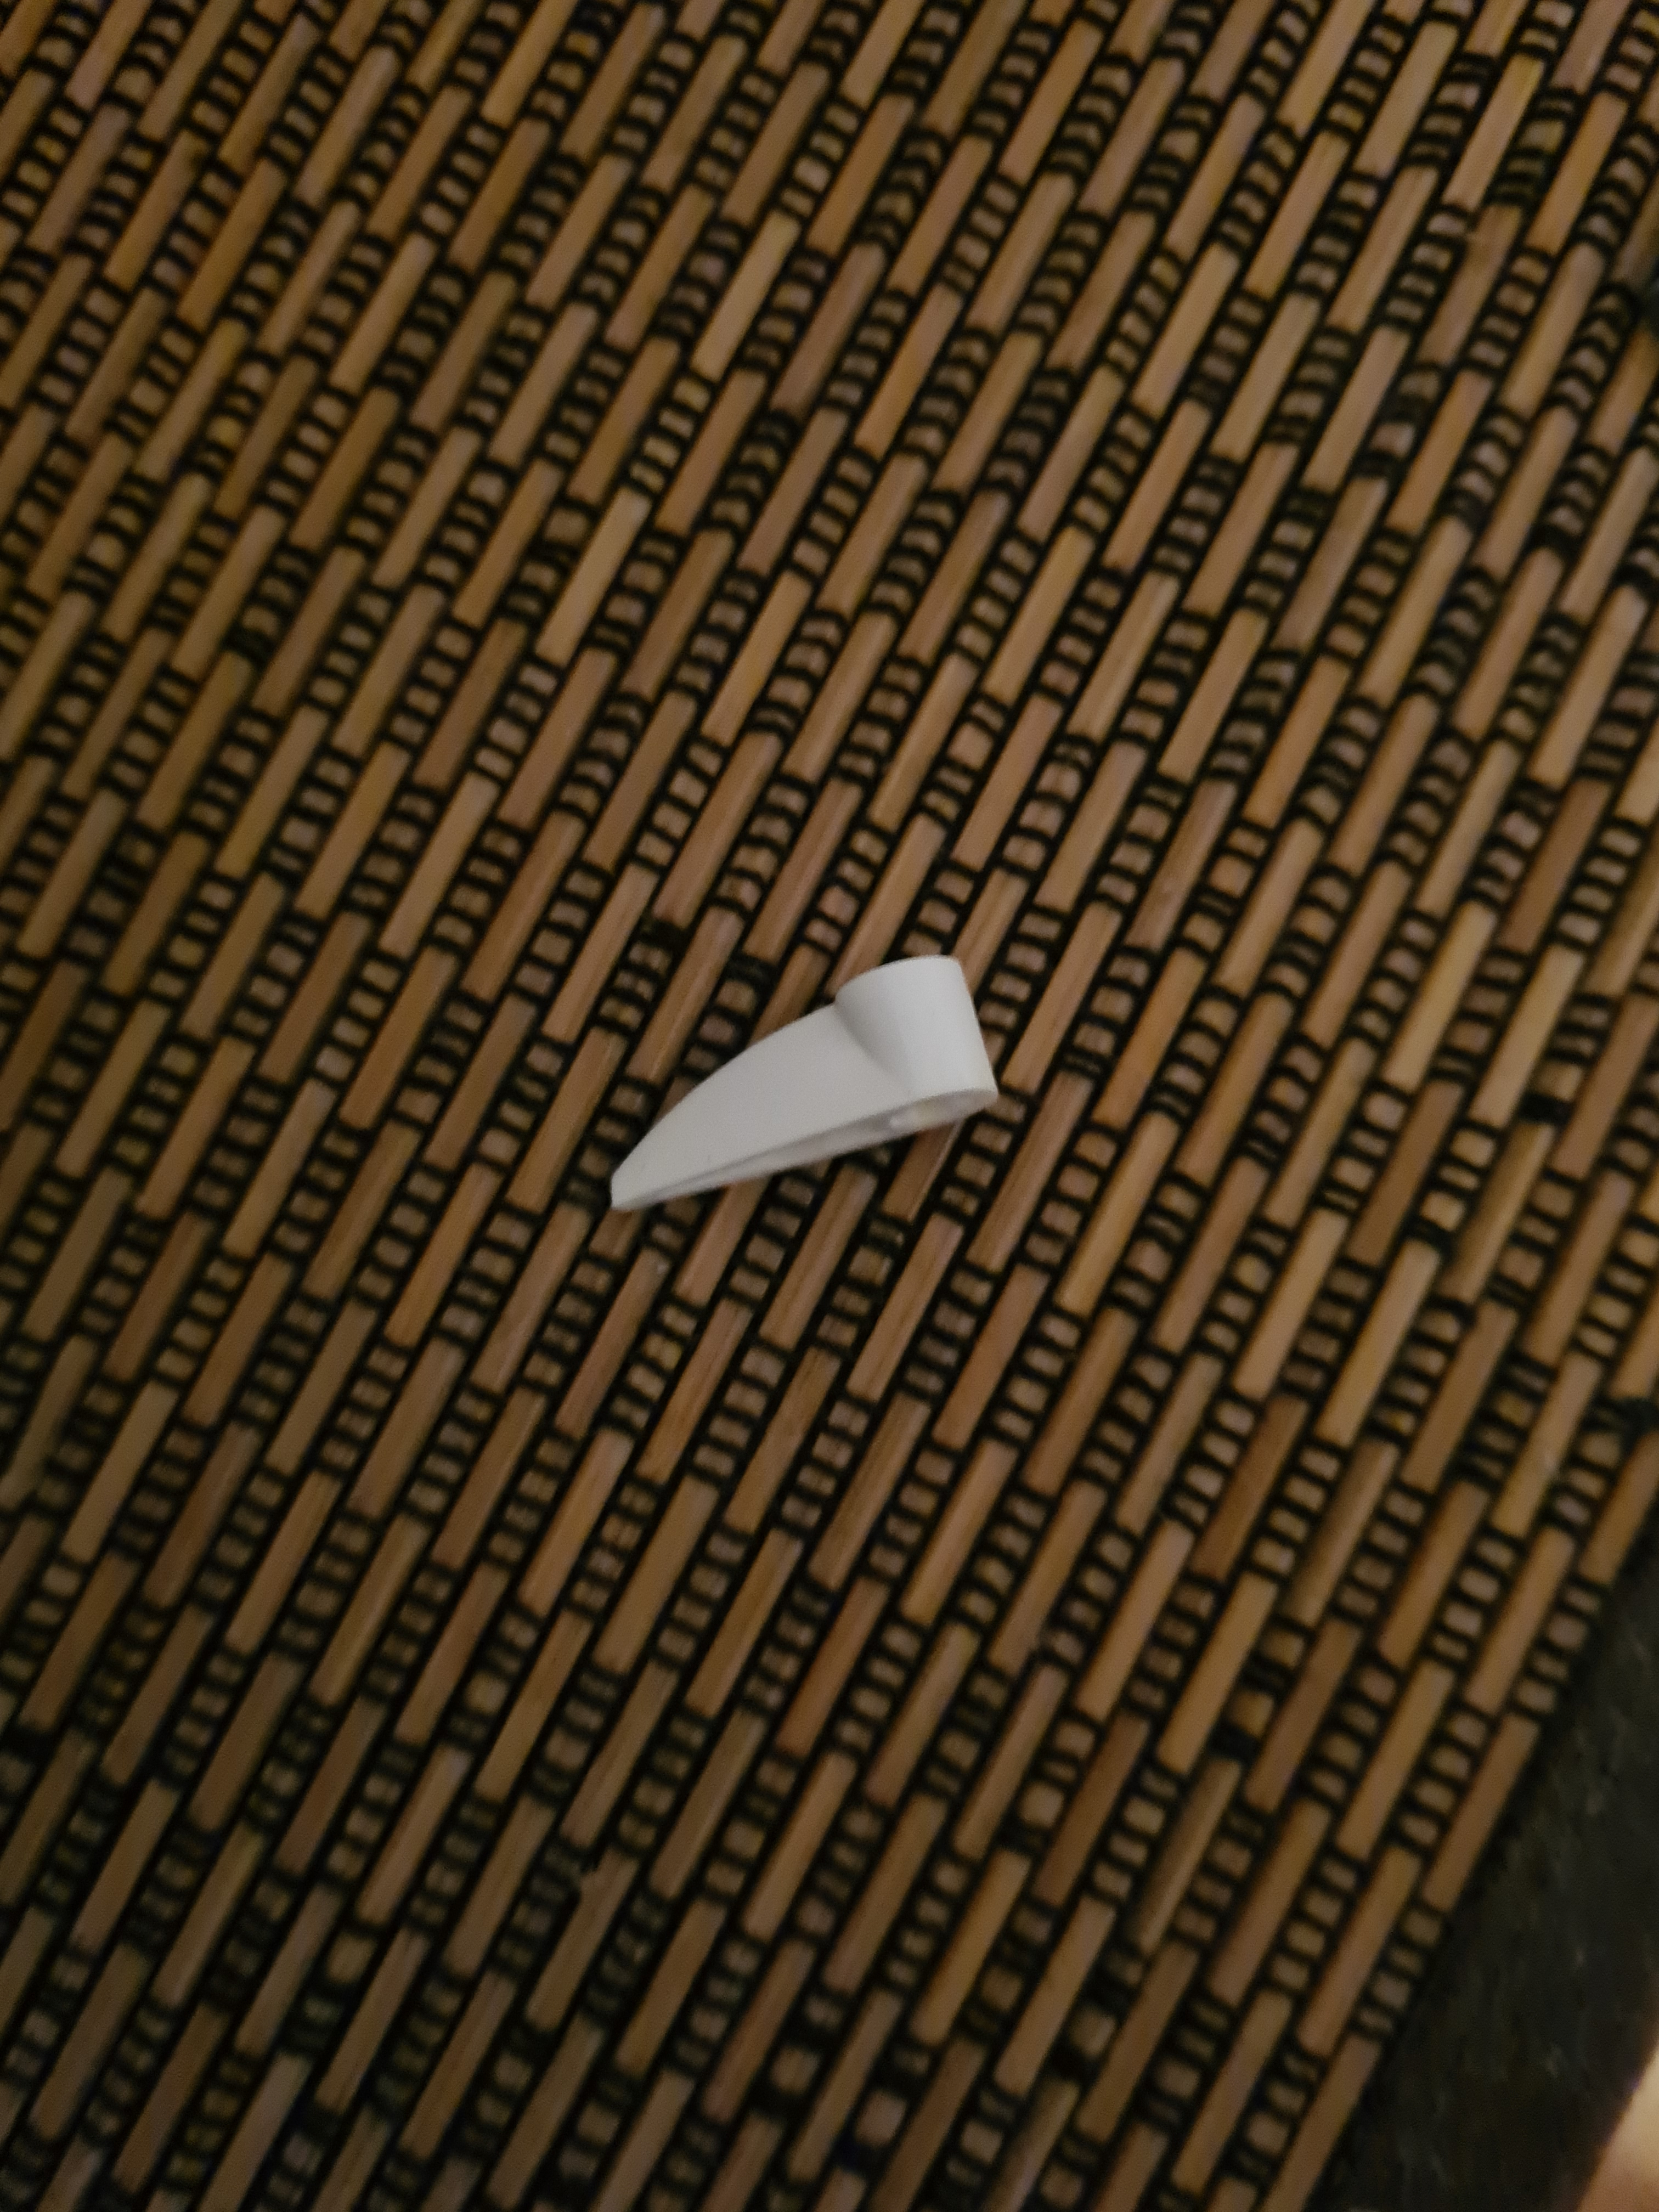Kappe: (575, 927, 1016, 1228)
